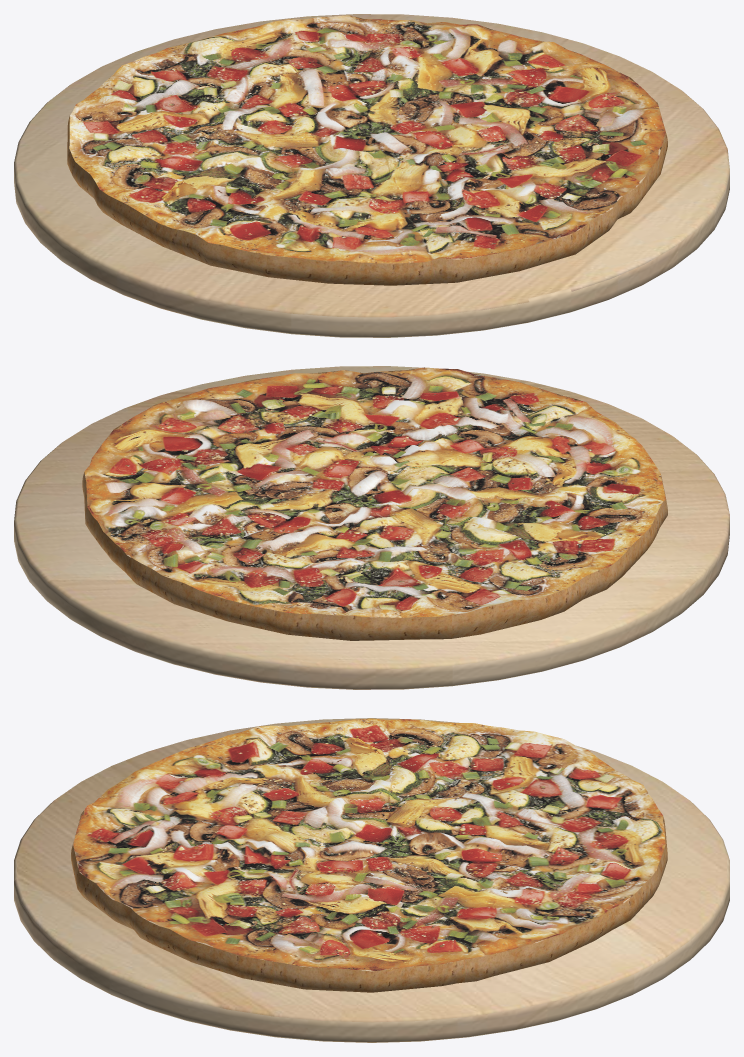
File: pizza_1.fbx
3 renders of one model, top to bottom at view 1: azimuth 30°, elevation 25°; view 2: azimuth 150°, elevation 25°; view 3: azimuth 270°, elevation 25°, orthographic.
Visible parts, largest first — view 1: Circle001, Cylinder001, Object; view 2: Circle001, Cylinder001, Object; view 3: Circle001, Cylinder001, Object.
Boxes of the visible parts, x1,y1,x2,y2 form: Circle001: [69, 15, 665, 263]; Cylinder001: [14, 14, 729, 337]; Object: [67, 17, 667, 285]; Circle001: [84, 367, 665, 617]; Cylinder001: [14, 366, 729, 689]; Object: [82, 368, 667, 640]; Circle001: [73, 718, 665, 970]; Cylinder001: [14, 718, 729, 1042]; Object: [71, 811, 667, 992].
Size of the model in its own units: 2.28 by 0.1901 by 2.27.
Materials: 3 (3 with a texture image).
